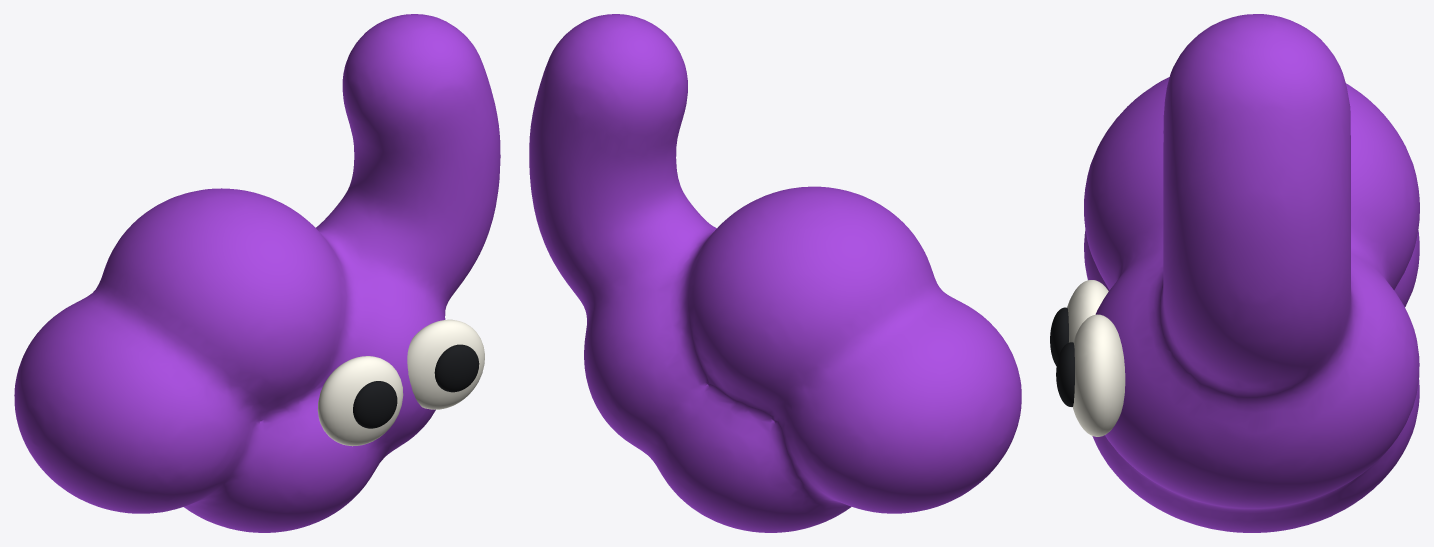
File: img-9970.glb
3 views of the same model, side by side, from view 1: azimuth 30°, elevation 25°; view 2: azimuth 150°, elevation 25°; view 3: azimuth 270°, elevation 25° (orthographic). The views are drawn at different scales.
Parts seen in each view (by area): view 1: IMG_9970__Purple soft cloud.005, IMG_9970__EyeWhite_0.009, IMG_9970__EyeWhite_1.009, IMG_9970__Pupil_1.009, IMG_9970__Pupil_0.009; view 2: IMG_9970__Purple soft cloud.005; view 3: IMG_9970__Purple soft cloud.005, IMG_9970__EyeWhite_1.009, IMG_9970__EyeWhite_0.009, IMG_9970__Pupil_1.009, IMG_9970__Pupil_0.009.
Boxes of the visible parts, x1=… form: IMG_9970__Purple soft cloud.005: x1=14, y1=14, x2=500, y2=532; IMG_9970__EyeWhite_0.009: x1=317, y1=356, x2=403, y2=446; IMG_9970__EyeWhite_1.009: x1=407, y1=319, x2=484, y2=409; IMG_9970__Pupil_1.009: x1=434, y1=344, x2=479, y2=392; IMG_9970__Pupil_0.009: x1=353, y1=381, x2=397, y2=428; IMG_9970__Purple soft cloud.005: x1=529, y1=14, x2=1021, y2=532; IMG_9970__Purple soft cloud.005: x1=1084, y1=14, x2=1419, y2=532; IMG_9970__EyeWhite_1.009: x1=1072, y1=314, x2=1125, y2=436; IMG_9970__EyeWhite_0.009: x1=1067, y1=280, x2=1108, y2=342; IMG_9970__Pupil_1.009: x1=1056, y1=342, x2=1074, y2=406; IMG_9970__Pupil_0.009: x1=1050, y1=307, x2=1068, y2=365.
Bounding box in the file's own units: 1.05 × 1 × 0.5676.
